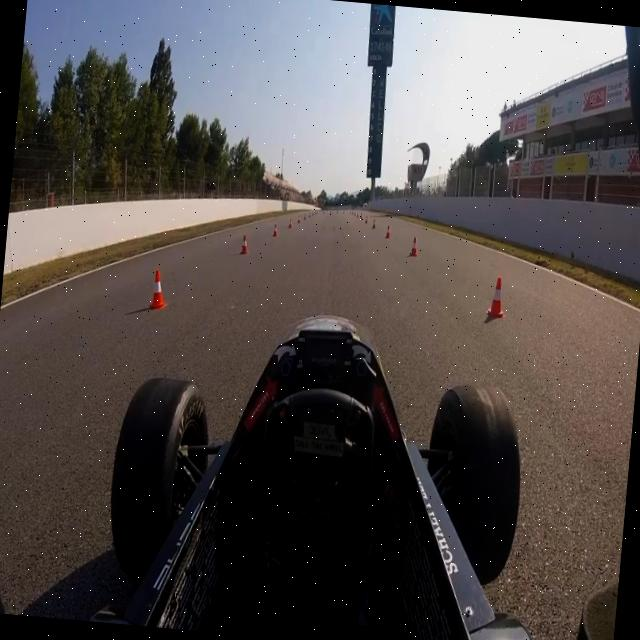orange_cone: (146, 262, 174, 314), (484, 272, 507, 321), (239, 230, 252, 258), (409, 235, 419, 258), (271, 222, 279, 238), (384, 223, 391, 239), (287, 218, 293, 230), (371, 218, 376, 230), (296, 213, 300, 224), (364, 214, 368, 224)
